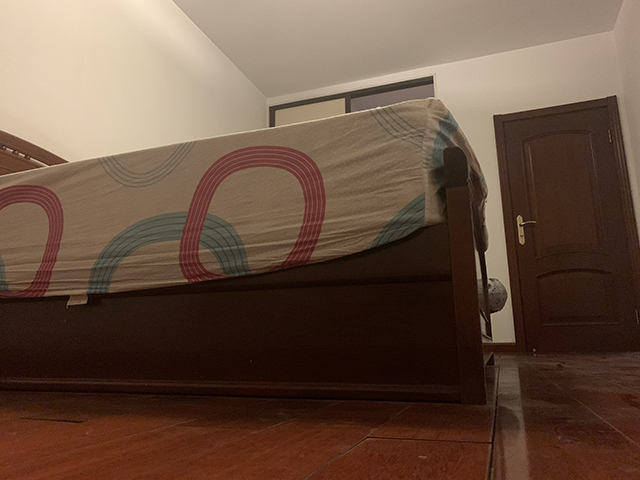bed: (1, 95, 496, 407)
